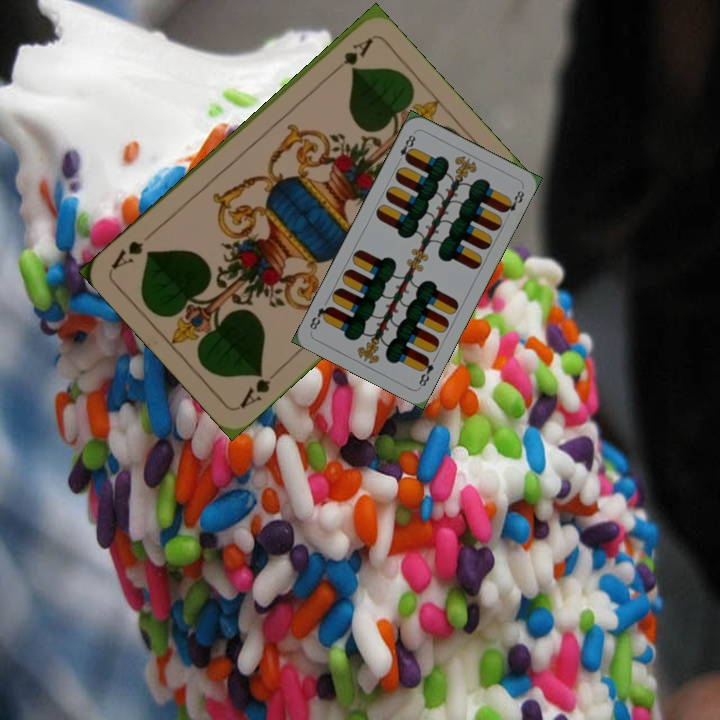E8: (415, 352, 436, 389), (396, 129, 418, 164)
GA: (326, 34, 375, 79), (235, 365, 282, 411)
